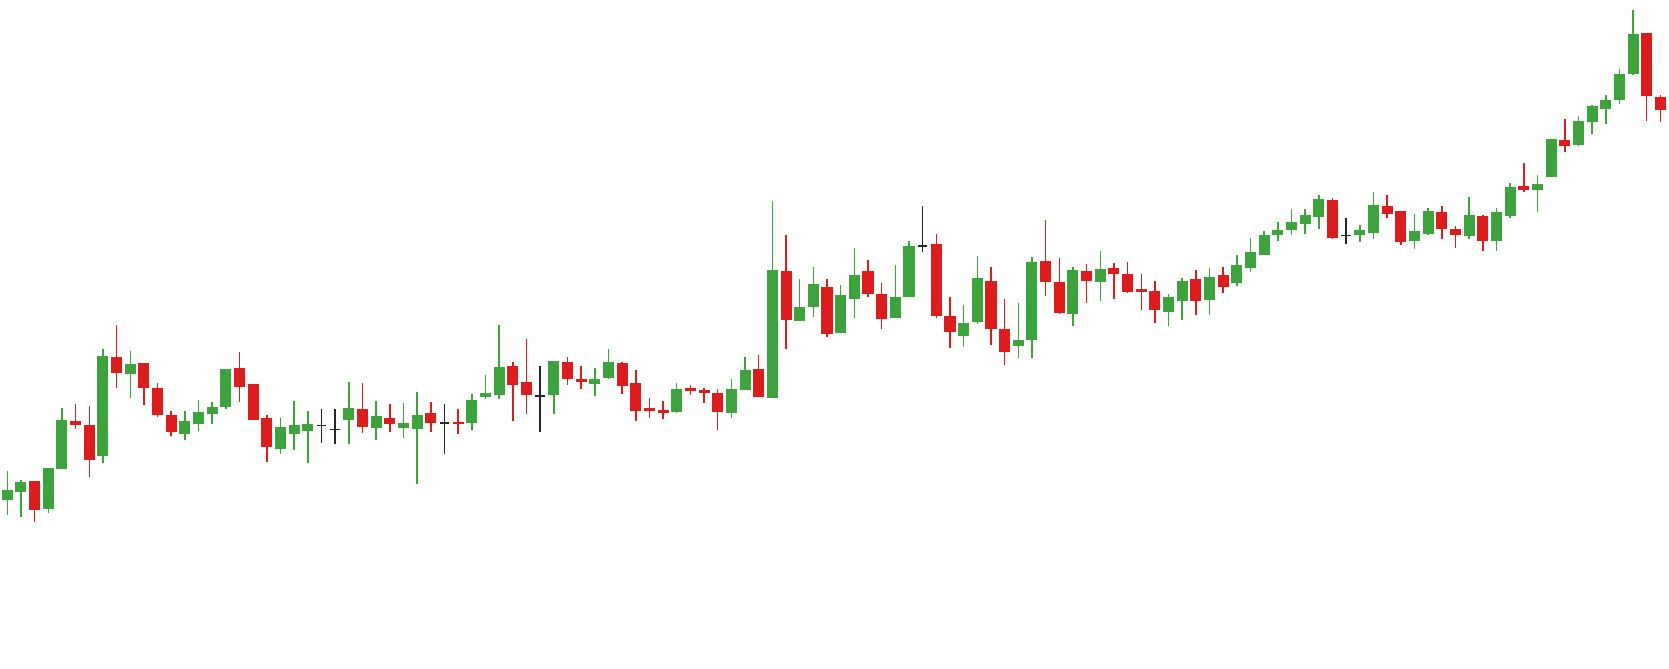buy: (164, 388, 287, 472)
